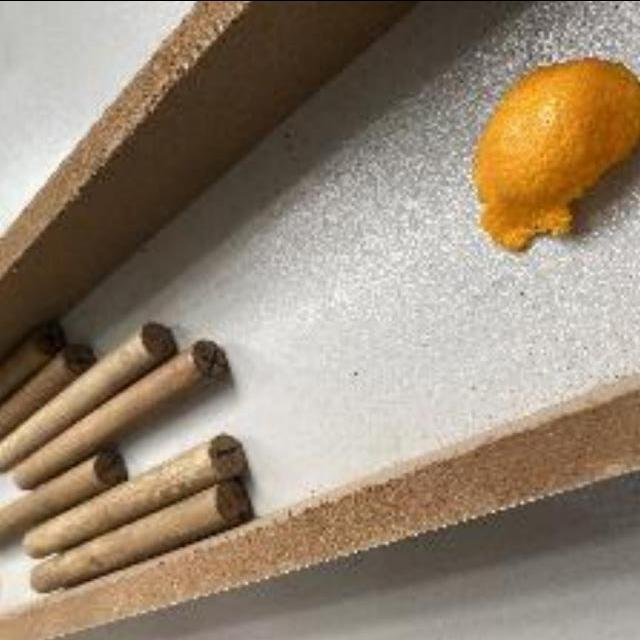orange peel: (470, 54, 640, 238)
